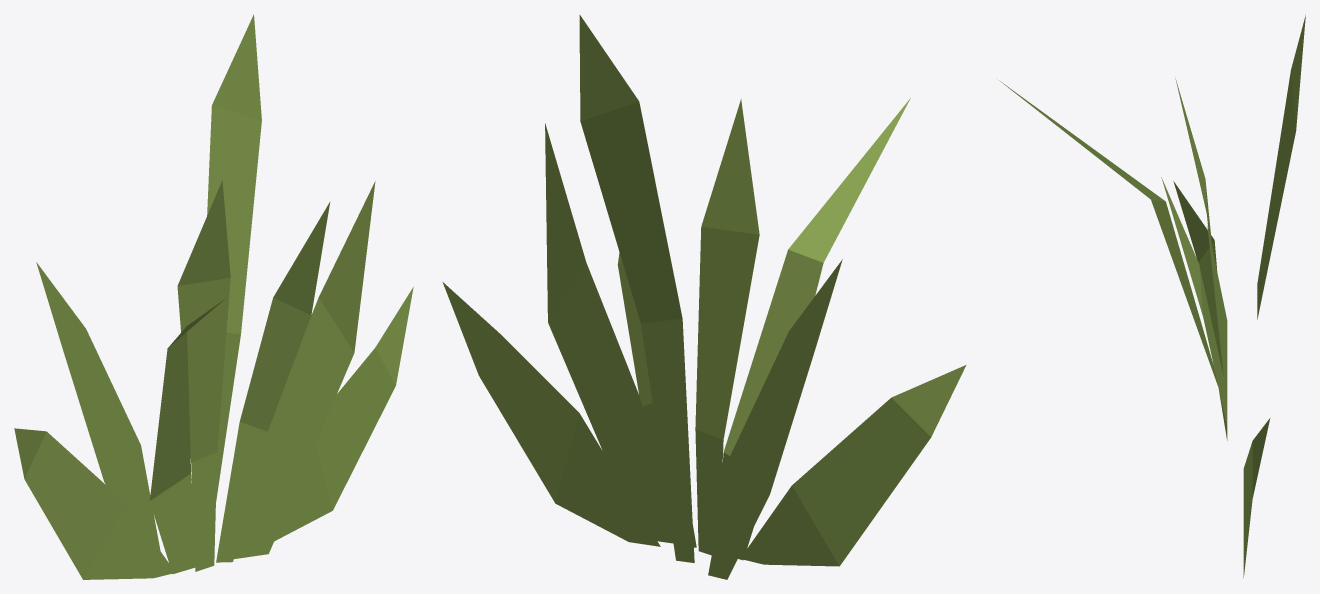
Rendered from grass_04.fbx.
The picture shows the model from 3 angles, left to right: view 1: azimuth 30°, elevation 25°; view 2: azimuth 150°, elevation 25°; view 3: azimuth 270°, elevation 25°; orthographic projection. The views are drawn at different scales.
Visible parts, largest first — view 1: grass_04; view 2: grass_04; view 3: grass_04.
Part boxes in pixels (<box>): grass_04: <box>14,14,413,579</box>; grass_04: <box>442,14,966,579</box>; grass_04: <box>999,14,1305,577</box>.
Size of the model in its own units: 104 by 114 by 57.43.
